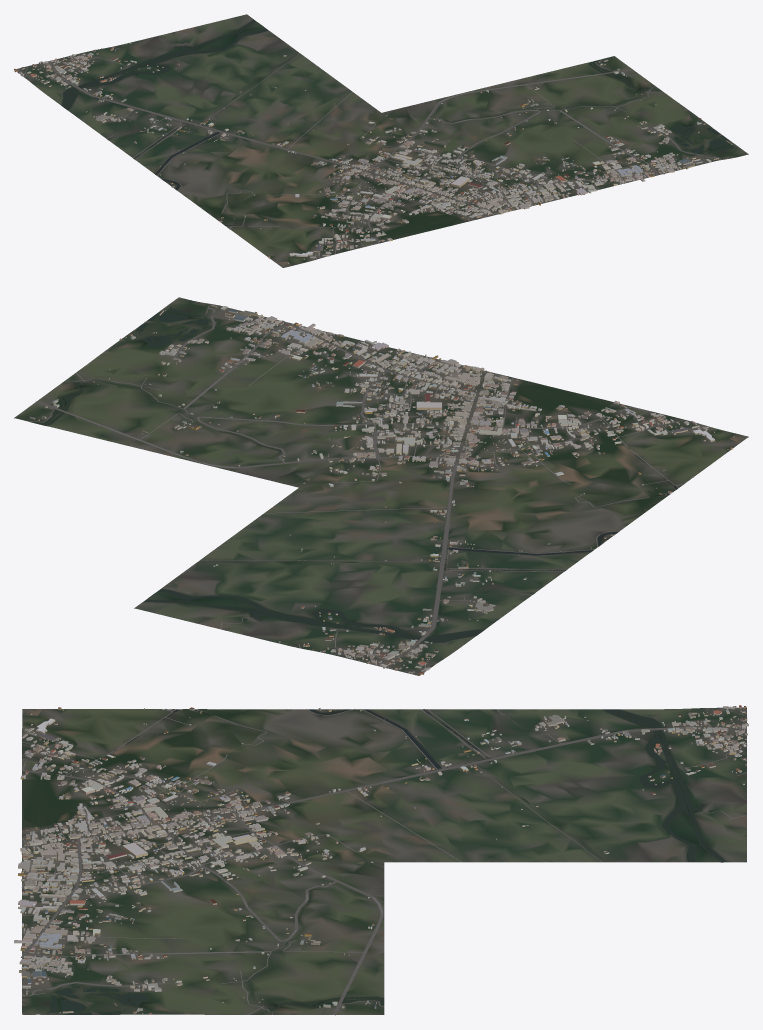
3 views of the same model, one above another, from view 1: azimuth 30°, elevation 25°; view 2: azimuth 150°, elevation 25°; view 3: azimuth 270°, elevation 25° (orthographic). The views are drawn at different scales.
Parts seen in each view (by area): view 1: ground, buildings, roads, water; view 2: ground, buildings, roads, water; view 3: ground, buildings, roads, water.
Boxes of the visible parts, x1=… form: ground: x1=16, y1=14, x2=748, y2=267; buildings: x1=14, y1=43, x2=732, y2=263; roads: x1=24, y1=31, x2=720, y2=254; water: x1=62, y1=20, x2=739, y2=226; ground: x1=14, y1=297, x2=748, y2=675; buildings: x1=29, y1=304, x2=734, y2=675; roads: x1=30, y1=304, x2=684, y2=671; water: x1=32, y1=300, x2=677, y2=642; ground: x1=22, y1=707, x2=746, y2=1014; buildings: x1=14, y1=705, x2=748, y2=1014; roads: x1=20, y1=707, x2=746, y2=1015; water: x1=22, y1=709, x2=726, y2=1014.
Size of the model in its own units: 2808 by 22.71 by 2840.
